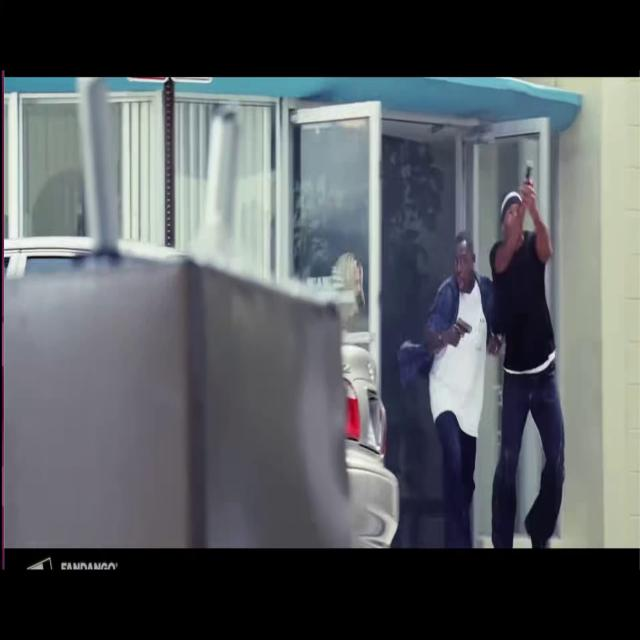weapons: (448, 308, 478, 356), (518, 144, 538, 212)
